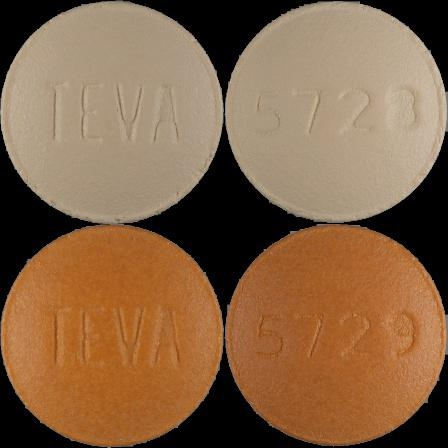68645-140: (0, 0, 224, 224)
